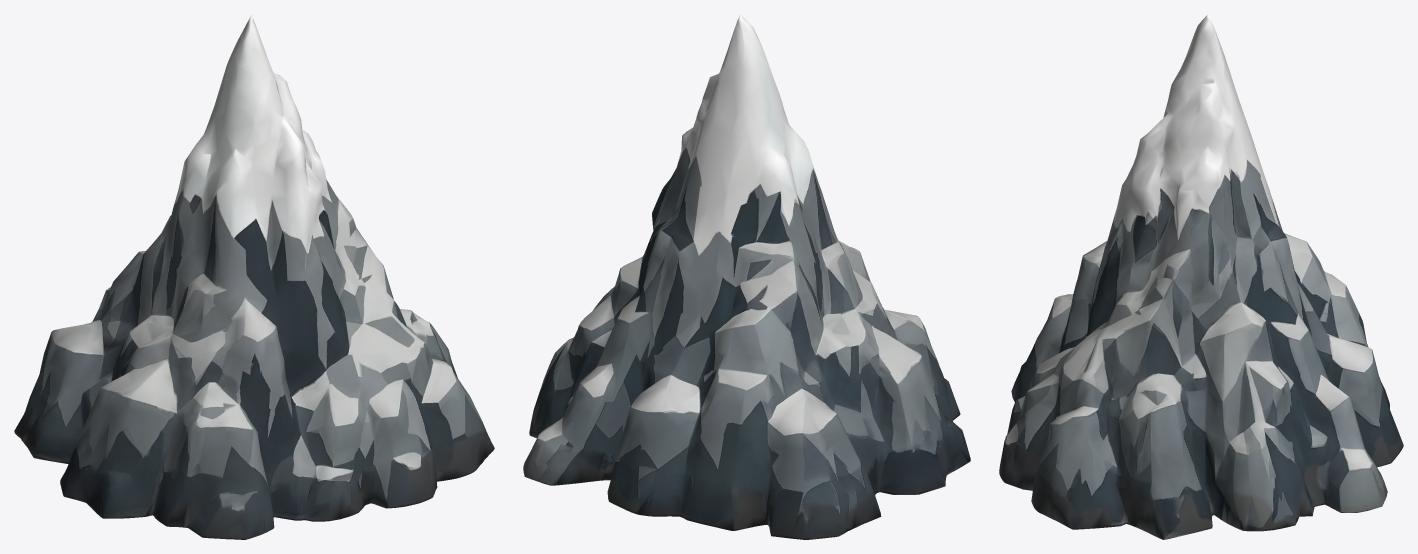
File: montagne1.glb
The picture shows the model from 3 angles, left to right: view 1: azimuth 30°, elevation 25°; view 2: azimuth 150°, elevation 25°; view 3: azimuth 270°, elevation 25°; orthographic projection.
Visible parts, largest first — view 1: mesh_node; view 2: mesh_node; view 3: mesh_node.
Part boxes in pixels (x1,y1,x2,y2): mesh_node: (14,14,494,539); mesh_node: (523,14,970,539); mesh_node: (999,14,1403,539).
Size of the model in its own units: 1.82 by 1.9 by 1.62.
Materials: 1 (1 with a texture image).
